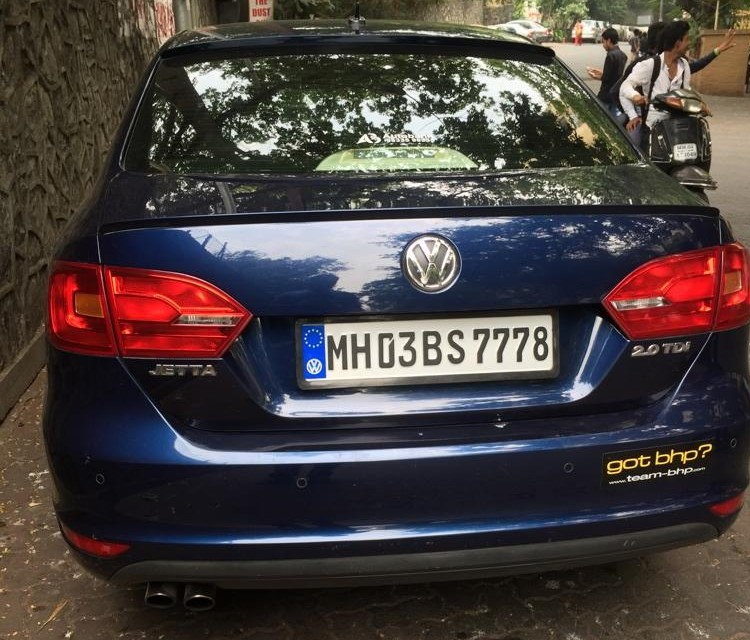MH03BS7778: (300, 313, 554, 383)
